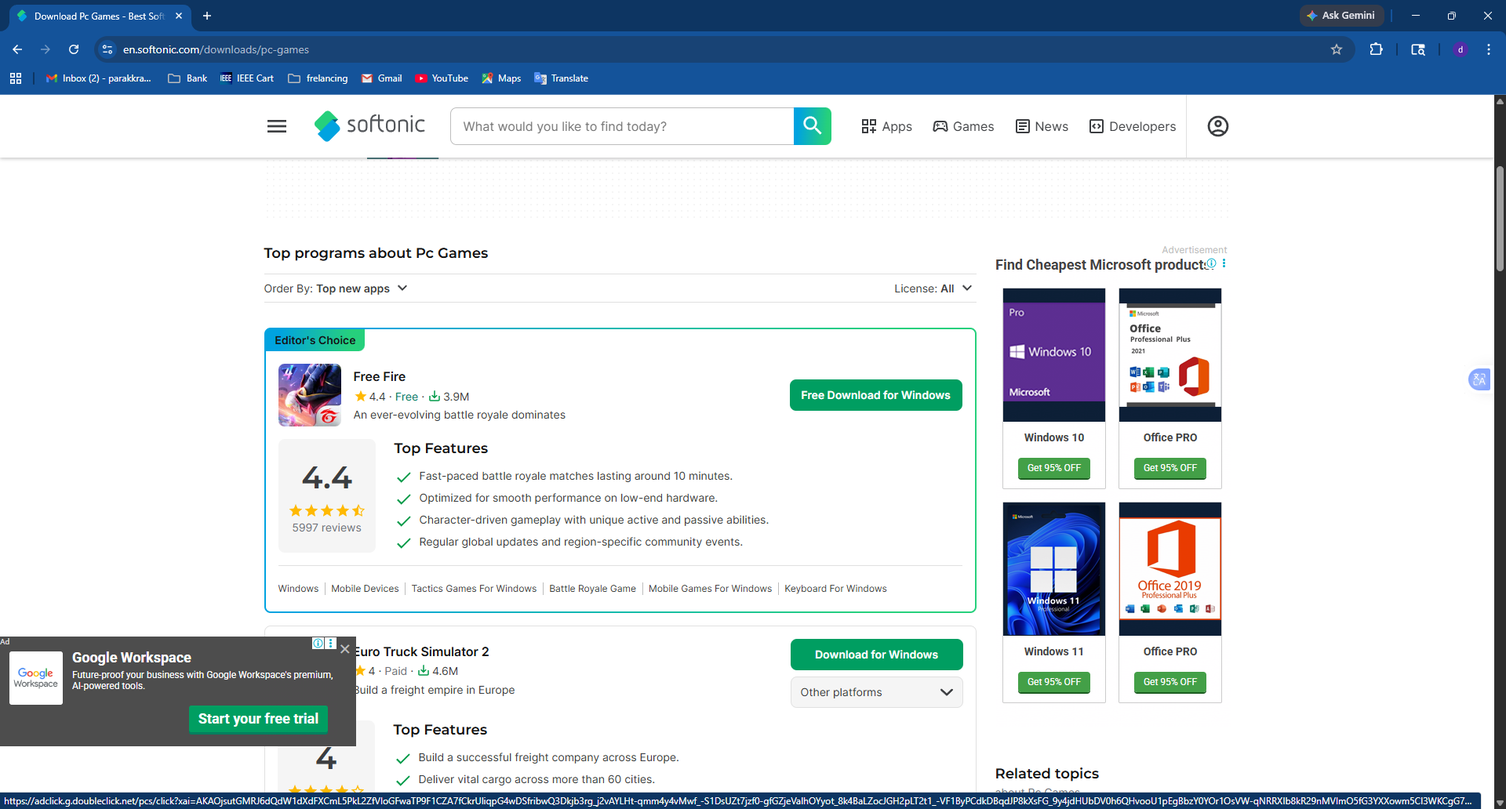fake_button: (771, 371, 973, 426), (778, 627, 975, 679)
